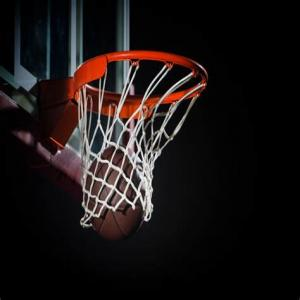Basket: (85, 142, 147, 241)
